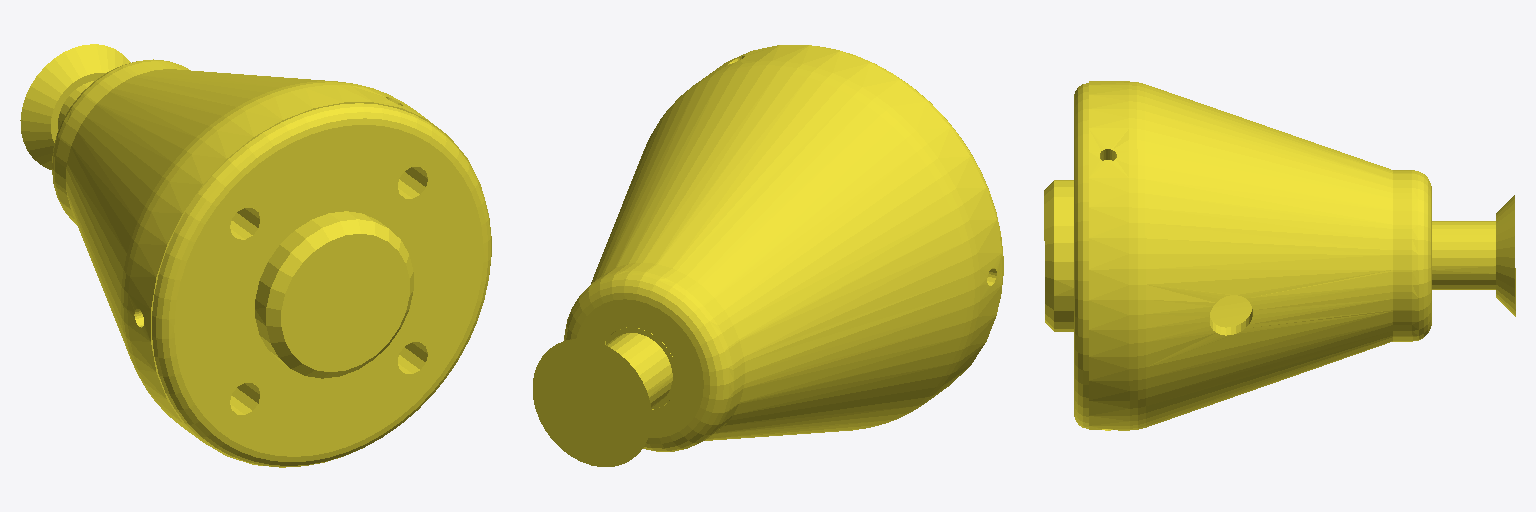
The robot description file, URDF, robot "ur3_with_vacuum_tool":
<?xml version="1.0" encoding="utf-8"?>
<!-- =================================================================================== -->
<!-- |    This document was autogenerated by xacro from ur3_with_vacuum_tool.xacro     | -->
<!-- |    EDITING THIS FILE BY HAND IS NOT RECOMMENDED                                 | -->
<!-- =================================================================================== -->
<robot name="ur3_with_vacuum_tool">
  <!--
    Base UR robot series xacro macro.

    NOTE: this is NOT a URDF. It cannot directly be loaded by consumers
    expecting a flattened '.urdf' file. See the top-level '.xacro' for that
    (but note: that .xacro must still be processed by the xacro command).

    For use in '.launch' files: use one of the 'load_urX.launch' convenience
    launch files.

    This file models the base kinematic chain of a UR robot, which then gets
    parameterised by various configuration files to convert it into a UR3(e),
    UR5(e), UR10(e) or UR16e.

    NOTE: the default kinematic parameters (ie: link lengths, frame locations,
    offets, etc) do not correspond to any particular robot. They are defaults
    only. There WILL be non-zero offsets between the Forward Kinematics results
    in TF (ie: robot_state_publisher) and the values reported by the Teach
    Pendant.

    For accurate (and robot-specific) transforms, the 'kinematics_parameters_file'
    parameter MUST point to a .yaml file containing the appropriate values for
    the targetted robot.

    If using the UniversalRobots/Universal_Robots_ROS_Driver, follow the steps
    described in the readme of that repository to extract the kinematic
    calibration from the controller and generate the required .yaml file.

    Main author of the migration to yaml configs: [author].

    Contributors to previous versions (in no particular order):

     - [author]
     - [author]
     - [author]
     - [author]
     - [author]
     - [author]
     - [author]
     - [author]
     - [author]
     - [author]
     - [author]
     - [author]
     - [author]
     - [author]
     - [author]
     - [author]
     - [author]
  -->
  <!--
    NOTE: the macro defined in this file is NOT part of the public API of this
          package. Users CANNOT rely on this file being available, or stored in
          this location. Nor can they rely on the existence of the macro.
  -->
  <transmission name="shoulder_pan_trans">
    <type>transmission_interface/SimpleTransmission</type>
    <joint name="shoulder_pan_joint">
      <hardwareInterface>hardware_interface/PositionJointInterface</hardwareInterface>
    </joint>
    <actuator name="shoulder_pan_motor">
      <mechanicalReduction>1</mechanicalReduction>
    </actuator>
  </transmission>
  <transmission name="shoulder_lift_trans">
    <type>transmission_interface/SimpleTransmission</type>
    <joint name="shoulder_lift_joint">
      <hardwareInterface>hardware_interface/PositionJointInterface</hardwareInterface>
    </joint>
    <actuator name="shoulder_lift_motor">
      <mechanicalReduction>1</mechanicalReduction>
    </actuator>
  </transmission>
  <transmission name="elbow_trans">
    <type>transmission_interface/SimpleTransmission</type>
    <joint name="elbow_joint">
      <hardwareInterface>hardware_interface/PositionJointInterface</hardwareInterface>
    </joint>
    <actuator name="elbow_motor">
      <mechanicalReduction>1</mechanicalReduction>
    </actuator>
  </transmission>
  <transmission name="wrist_1_trans">
    <type>transmission_interface/SimpleTransmission</type>
    <joint name="wrist_1_joint">
      <hardwareInterface>hardware_interface/PositionJointInterface</hardwareInterface>
    </joint>
    <actuator name="wrist_1_motor">
      <mechanicalReduction>1</mechanicalReduction>
    </actuator>
  </transmission>
  <transmission name="wrist_2_trans">
    <type>transmission_interface/SimpleTransmission</type>
    <joint name="wrist_2_joint">
      <hardwareInterface>hardware_interface/PositionJointInterface</hardwareInterface>
    </joint>
    <actuator name="wrist_2_motor">
      <mechanicalReduction>1</mechanicalReduction>
    </actuator>
  </transmission>
  <transmission name="wrist_3_trans">
    <type>transmission_interface/SimpleTransmission</type>
    <joint name="wrist_3_joint">
      <hardwareInterface>hardware_interface/PositionJointInterface</hardwareInterface>
    </joint>
    <actuator name="wrist_3_motor">
      <mechanicalReduction>1</mechanicalReduction>
    </actuator>
  </transmission>
  <!-- links: main serial chain -->
  <link name="base_link"/>
  <link name="base_link_inertia">
    <visual>
      <origin rpy="0 0 3.14159265359" xyz="0 0 0"/>
      <geometry>
        <mesh filename="package://ur_description/meshes/ur3/visual/base.dae"/>
      </geometry>
      <material name="LightGrey">
        <color rgba="0.7 0.7 0.7 1.0"/>
      </material>
    </visual>
    <collision>
      <origin rpy="0 0 3.14159265359" xyz="0 0 0"/>
      <geometry>
        <mesh filename="package://ur_description/meshes/ur3/collision/base.stl"/>
      </geometry>
    </collision>
    <inertial>
      <mass value="2.0"/>
      <origin rpy="0 0 0" xyz="0 0 0"/>
      <inertia ixx="0.0030531654454" ixy="0.0" ixz="0.0" iyy="0.0030531654454" iyz="0.0" izz="0.005625"/>
    </inertial>
  </link>
  <link name="shoulder_link">
    <visual>
      <origin rpy="0 0 3.14159265359" xyz="0 0 0"/>
      <geometry>
        <mesh filename="package://ur_description/meshes/ur3/visual/shoulder.dae"/>
      </geometry>
      <material name="LightGrey">
        <color rgba="0.7 0.7 0.7 1.0"/>
      </material>
    </visual>
    <collision>
      <origin rpy="0 0 3.14159265359" xyz="0 0 0"/>
      <geometry>
        <mesh filename="package://ur_description/meshes/ur3/collision/shoulder.stl"/>
      </geometry>
    </collision>
    <inertial>
      <mass value="2.0"/>
      <origin rpy="0 0 0" xyz="0 0 0"/>
      <inertia ixx="0.0080931634294" ixy="0.0" ixz="0.0" iyy="0.0080931634294" iyz="0.0" izz="0.005625"/>
    </inertial>
  </link>
  <link name="upper_arm_link">
    <visual>
      <origin rpy="1.57079632679 0 -1.57079632679" xyz="0 0 0.1198"/>
      <geometry>
        <mesh filename="package://ur_description/meshes/ur3/visual/upperarm.dae"/>
      </geometry>
      <material name="LightGrey">
        <color rgba="0.7 0.7 0.7 1.0"/>
      </material>
    </visual>
    <collision>
      <origin rpy="1.57079632679 0 -1.57079632679" xyz="0 0 0.1198"/>
      <geometry>
        <mesh filename="package://ur_description/meshes/ur3/collision/upperarm.stl"/>
      </geometry>
    </collision>
    <inertial>
      <mass value="3.42"/>
      <origin rpy="0 1.57079632679 0" xyz="-0.121825 0.0 0.12"/>
      <inertia ixx="0.0217284832211" ixy="0.0" ixz="0.0" iyy="0.0217284832211" iyz="0.0" izz="0.00961875"/>
    </inertial>
  </link>
  <link name="forearm_link">
    <visual>
      <origin rpy="1.57079632679 0 -1.57079632679" xyz="0 0 0.0275"/>
      <geometry>
        <mesh filename="package://ur_description/meshes/ur3/visual/forearm.dae"/>
      </geometry>
      <material name="LightGrey">
        <color rgba="0.7 0.7 0.7 1.0"/>
      </material>
    </visual>
    <collision>
      <origin rpy="1.57079632679 0 -1.57079632679" xyz="0 0 0.0275"/>
      <geometry>
        <mesh filename="package://ur_description/meshes/ur3/collision/forearm.stl"/>
      </geometry>
    </collision>
    <inertial>
      <mass value="1.26"/>
      <origin rpy="0 1.57079632679 0" xyz="-0.106625 0.0 0.0275"/>
      <inertia ixx="0.00654680644378" ixy="0.0" ixz="0.0" iyy="0.00654680644378" iyz="0.0" izz="0.00354375"/>
    </inertial>
  </link>
  <link name="wrist_1_link">
    <visual>
      <!-- TODO: Move this to a parameter -->
      <origin rpy="1.57079632679 0 0" xyz="0 0 -0.085"/>
      <geometry>
        <mesh filename="package://ur_description/meshes/ur3/visual/wrist1.dae"/>
      </geometry>
      <material name="LightGrey">
        <color rgba="0.7 0.7 0.7 1.0"/>
      </material>
    </visual>
    <collision>
      <origin rpy="1.57079632679 0 0" xyz="0 0 -0.085"/>
      <geometry>
        <mesh filename="package://ur_description/meshes/ur3/collision/wrist1.stl"/>
      </geometry>
    </collision>
    <inertial>
      <mass value="0.8"/>
      <origin rpy="0 0 0" xyz="0 0 0"/>
      <inertia ixx="0.00161064085574" ixy="0.0" ixz="0.0" iyy="0.00161064085574" iyz="0.0" izz="0.00225"/>
    </inertial>
  </link>
  <link name="wrist_2_link">
    <visual>
      <origin rpy="0 0 0" xyz="0 0 -0.085"/>
      <geometry>
        <mesh filename="package://ur_description/meshes/ur3/visual/wrist2.dae"/>
      </geometry>
      <material name="LightGrey">
        <color rgba="0.7 0.7 0.7 1.0"/>
      </material>
    </visual>
    <collision>
      <origin rpy="0 0 0" xyz="0 0 -0.085"/>
      <geometry>
        <mesh filename="package://ur_description/meshes/ur3/collision/wrist2.stl"/>
      </geometry>
    </collision>
    <inertial>
      <mass value="0.8"/>
      <origin rpy="0 0 0" xyz="0 0 0"/>
      <inertia ixx="0.00157217337113" ixy="0.0" ixz="0.0" iyy="0.00157217337113" iyz="0.0" izz="0.00225"/>
    </inertial>
  </link>
  <link name="wrist_3_link">
    <visual>
      <origin rpy="1.57079632679 0 0" xyz="0 0 -0.082"/>
      <geometry>
        <mesh filename="package://ur_description/meshes/ur3/visual/wrist3.dae"/>
      </geometry>
      <material name="LightGrey">
        <color rgba="0.7 0.7 0.7 1.0"/>
      </material>
    </visual>
    <collision>
      <origin rpy="1.57079632679 0 0" xyz="0 0 -0.082"/>
      <geometry>
        <mesh filename="package://ur_description/meshes/ur3/collision/wrist3.stl"/>
      </geometry>
    </collision>
    <inertial>
      <mass value="0.35"/>
      <origin rpy="0 0 0" xyz="0.0 0.0 -0.02"/>
      <inertia ixx="0.00013626661216" ixy="0.0" ixz="0.0" iyy="0.00013626661216" iyz="0.0" izz="0.0001792"/>
    </inertial>
  </link>
  <!-- joints: main serial chain -->
  <joint name="base_link-base_link_inertia" type="fixed">
    <parent link="base_link"/>
    <child link="base_link_inertia"/>
    <!-- 'base_link' is REP-103 aligned (so X+ forward), while the internal
           frames of the robot/controller have X+ pointing backwards.
           Use the joint between 'base_link' and 'base_link_inertia' (a dummy
           link/frame) to introduce the necessary rotation over Z (of pi rad).
      -->
    <origin rpy="0 0 3.14159265359" xyz="0 0 0"/>
  </joint>
  <joint name="shoulder_pan_joint" type="revolute">
    <parent link="base_link_inertia"/>
    <child link="shoulder_link"/>
    <origin rpy="0 0 0" xyz="0 0 0.1519"/>
    <axis xyz="0 0 1"/>
    <limit effort="56.0" lower="-6.28318530718" upper="6.28318530718" velocity="3.14159265359"/>
    <dynamics damping="0" friction="0"/>
  </joint>
  <joint name="shoulder_lift_joint" type="revolute">
    <parent link="shoulder_link"/>
    <child link="upper_arm_link"/>
    <origin rpy="1.570796327 0 0" xyz="0 0 0"/>
    <axis xyz="0 0 1"/>
    <limit effort="56.0" lower="-6.28318530718" upper="6.28318530718" velocity="3.14159265359"/>
    <dynamics damping="0" friction="0"/>
  </joint>
  <joint name="elbow_joint" type="revolute">
    <parent link="upper_arm_link"/>
    <child link="forearm_link"/>
    <origin rpy="0 0 0" xyz="-0.24365 0 0"/>
    <axis xyz="0 0 1"/>
    <limit effort="28.0" lower="-3.14159265359" upper="3.14159265359" velocity="3.14159265359"/>
    <dynamics damping="0" friction="0"/>
  </joint>
  <joint name="wrist_1_joint" type="revolute">
    <parent link="forearm_link"/>
    <child link="wrist_1_link"/>
    <origin rpy="0 0 0" xyz="-0.21325 0 0.11235"/>
    <axis xyz="0 0 1"/>
    <limit effort="12.0" lower="-6.28318530718" upper="6.28318530718" velocity="6.28318530718"/>
    <dynamics damping="0" friction="0"/>
  </joint>
  <joint name="wrist_2_joint" type="revolute">
    <parent link="wrist_1_link"/>
    <child link="wrist_2_link"/>
    <origin rpy="1.570796327 0 0" xyz="0 -0.08535 -1.75055776238e-11"/>
    <axis xyz="0 0 1"/>
    <limit effort="12.0" lower="-6.28318530718" upper="6.28318530718" velocity="6.28318530718"/>
    <dynamics damping="0" friction="0"/>
  </joint>
  <joint name="wrist_3_joint" type="revolute">
    <parent link="wrist_2_link"/>
    <child link="wrist_3_link"/>
    <origin rpy="1.57079632659 3.14159265359 3.14159265359" xyz="0 0.0819 -1.67979707954e-11"/>
    <axis xyz="0 0 1"/>
    <limit effort="12.0" lower="-6.28318530718" upper="6.28318530718" velocity="6.28318530718"/>
    <dynamics damping="0" friction="0"/>
  </joint>
  <!-- ROS-Industrial 'base' frame: base_link to UR 'Base' Coordinates transform -->
  <link name="base"/>
  <joint name="base_link-base_fixed_joint" type="fixed">
    <!-- Note the rotation over Z of pi radians: as base_link is REP-103
           aligned (ie: has X+ forward, Y+ left and Z+ up), this is needed
           to correctly align 'base' with the 'Base' coordinate system of
           the UR controller.
      -->
    <origin rpy="0 0 3.14159265359" xyz="0 0 0"/>
    <parent link="base_link"/>
    <child link="base"/>
  </joint>
  <!-- ROS-Industrial 'flange' frame: attachment point for EEF models -->
  <link name="flange"/>
  <joint name="wrist_3-flange" type="fixed">
    <parent link="wrist_3_link"/>
    <child link="flange"/>
    <origin rpy="0 -1.57079632679 -1.57079632679" xyz="0 0 0"/>
  </joint>
  <!-- ROS-Industrial 'tool0' frame: all-zeros tool frame -->
  <link name="tool0"/>
  <joint name="flange-tool0" type="fixed">
    <!-- default toolframe: X+ left, Y+ up, Z+ front -->
    <origin rpy="1.57079632679 0 1.57079632679" xyz="0 0 0"/>
    <parent link="flange"/>
    <child link="tool0"/>
  </joint>
  <!-- Create a fixed joint with a parameterized name. -->
  <joint name="vacuum_tool_joint" type="fixed">
    <!-- The parent link must be read from the robot model it is attached to. -->
    <parent link="tool0"/>
    <child link="vacuum_tool"/>
    <!-- The tool is directly attached to the flange. -->
    <origin rpy="1.57 0 0" xyz="0 0 -0.01"/>
  </joint>
  <link name="vacuum_tool">
    <visual>
      <geometry>
        <!-- The path to the visual meshes in the package. -->
        <mesh filename="package://ur3_with_vacuum_tool/meshes/visual/vacuum_tool.stl"/>
      </geometry>
    </visual>
    <collision>
      <geometry>
        <!-- The path to the collision meshes in the package. -->
        <mesh filename="package://ur3_with_vacuum_tool/meshes/collision/vacuum_tool.stl"/>
      </geometry>
    </collision>
  </link>
  <!-- TCP frame -->
  <joint name="tcp_joint" type="fixed">
    <origin rpy="0 0 0" xyz="0 1 0"/>
    <parent link="vacuum_tool"/>
    <child link="tcp"/>
  </joint>
  <link name="tcp"/>
  <!-- define the ur3's position and orientation in the world coordinate system -->
  <link name="world"/>
  <joint name="world_joint" type="fixed">
    <parent link="world"/>
    <child link="base_link"/>
    <!-- TODO: check base_link name of robot -->
    <origin rpy="0.0 0.0 0.0" xyz="0.0 0.0 0.0"/>
  </joint>
</robot>

--- Facts derived from the render (not from the file) ---
The picture shows the robot from 3 angles, left to right: view 1: azimuth 30°, elevation 25°; view 2: azimuth 150°, elevation 25°; view 3: azimuth 270°, elevation 25°; orthographic projection.
Robot: ur3_with_vacuum_tool — 14 links, 13 joints (6 revolute, 7 fixed); root link world; default pose: every joint at zero.
Visible links, largest first — view 1: vacuum_tool; view 2: vacuum_tool; view 3: vacuum_tool.
Boxes of the visible links, x1=… form: vacuum_tool: x1=20, y1=44, x2=491, y2=467; vacuum_tool: x1=533, y1=45, x2=1003, y2=466; vacuum_tool: x1=1044, y1=81, x2=1515, y2=430.
Size in the robot's own frame: 0.0712 by 0.096 by 0.0711 metres.
Meshes: 8 distinct files referenced, 1 mesh visuals loaded (1 binary STL); not drawn: 7 (reference not matched to a file when rendering).